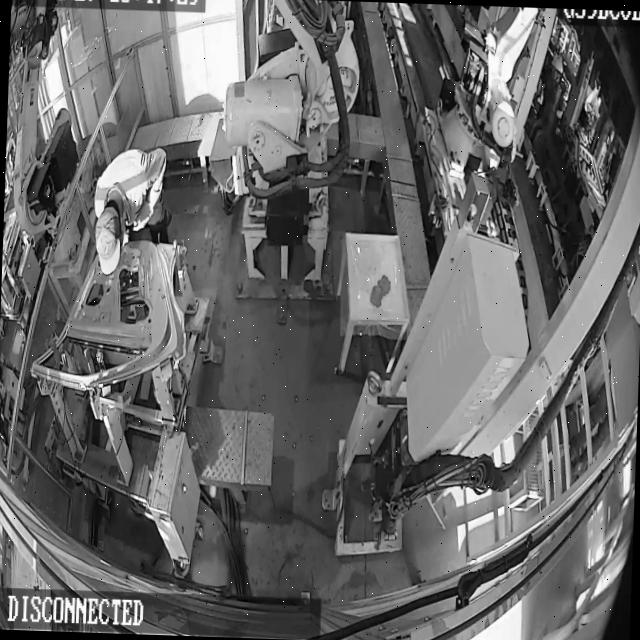Person: (90, 144, 174, 278)
